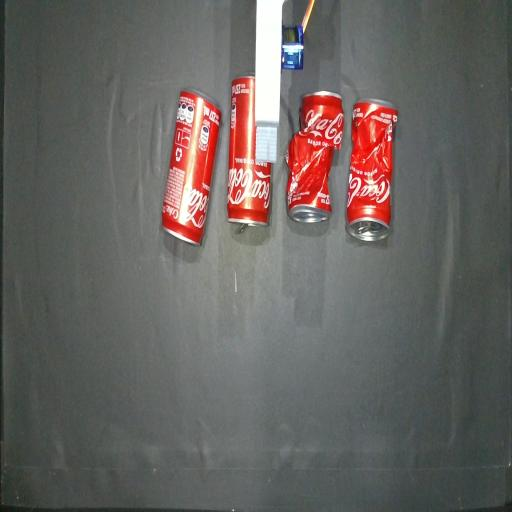lata: (161, 90, 221, 245), (227, 76, 271, 225)
lata_defectuoso: (285, 91, 345, 222), (346, 100, 398, 241)
